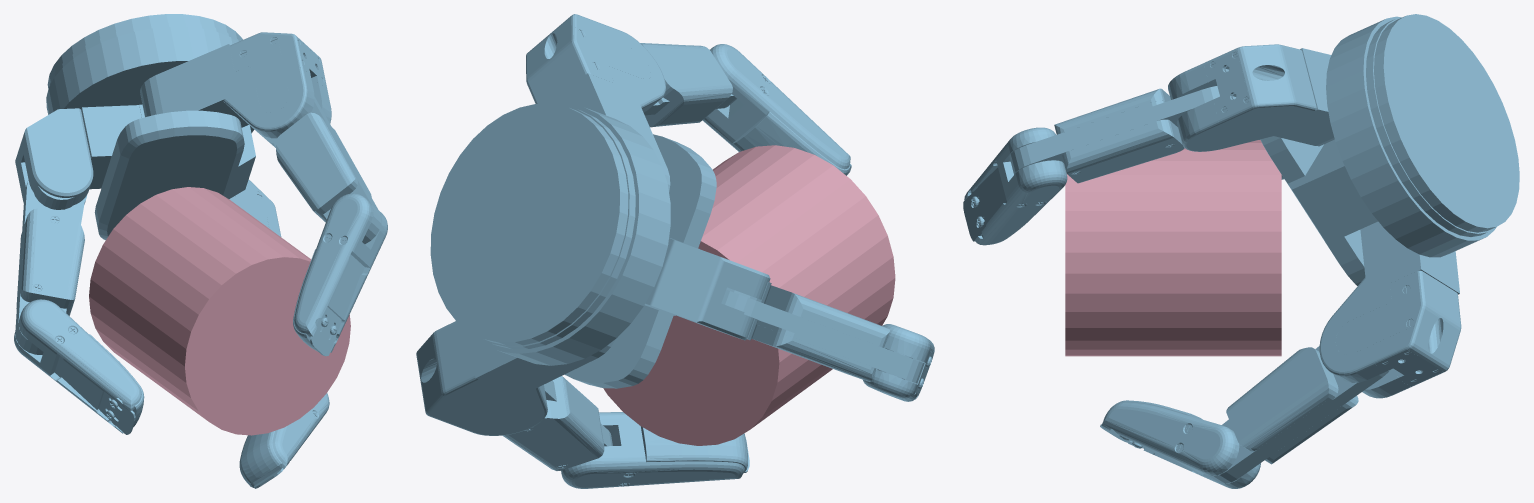
3 views of the same model, side by side, from view 1: azimuth 30°, elevation 25°; view 2: azimuth 150°, elevation 25°; view 3: azimuth 270°, elevation 25° (orthographic). The views are drawn at different scales.
Visible parts, largest first — view 1: world, cylinder_medium.stl; view 2: world, cylinder_medium.stl; view 3: world, cylinder_medium.stl.
Part boxes in pixels (x1,y1,x2,y2): world: [14, 14, 387, 488]; cylinder_medium.stl: [89, 187, 350, 435]; world: [416, 14, 934, 488]; cylinder_medium.stl: [603, 145, 895, 445]; world: [963, 14, 1519, 488]; cylinder_medium.stl: [1065, 140, 1281, 356].
Size of the model in its own units: 0.162 by 0.1822 by 0.2058.
